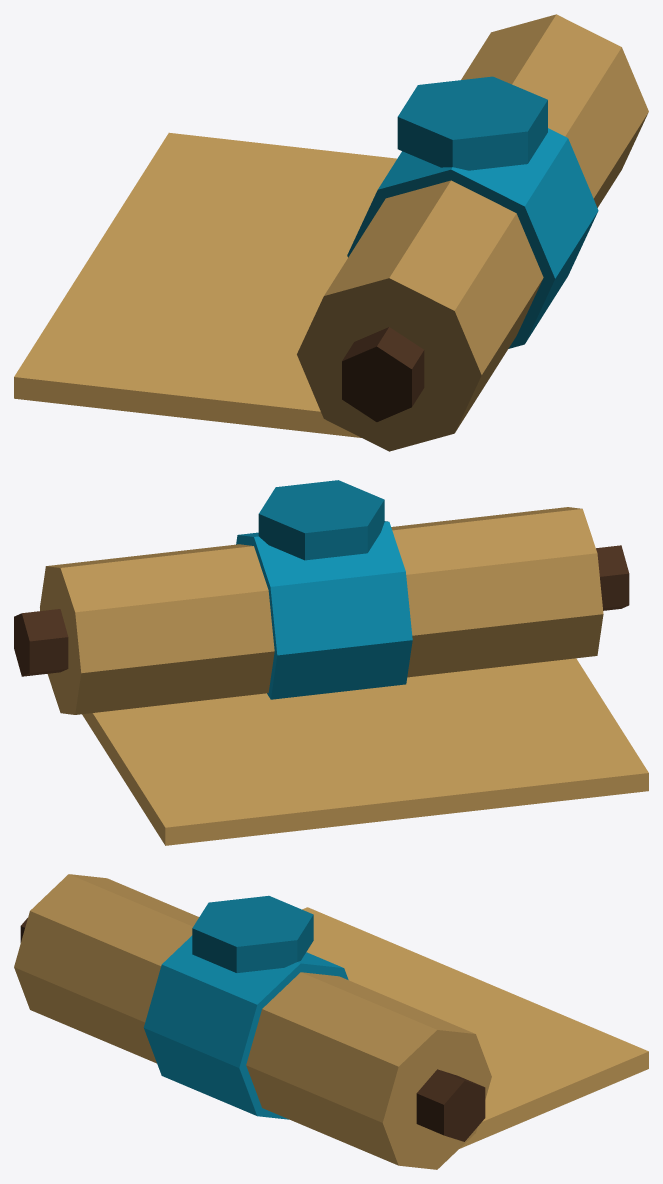
File: magic_missile_scroll.glb
The picture shows the model from 3 angles, top to bottom: view 1: azimuth 30°, elevation 25°; view 2: azimuth 150°, elevation 25°; view 3: azimuth 270°, elevation 25°; orthographic projection. The views are drawn at different scales.
Parts seen in each view (by area): view 1: magic_missile_scroll; view 2: magic_missile_scroll; view 3: magic_missile_scroll.
Part boxes in pixels (x1,y1,x2,y2): magic_missile_scroll: [14, 14, 648, 451]; magic_missile_scroll: [14, 480, 648, 845]; magic_missile_scroll: [14, 874, 648, 1169].
Size of the model in its own units: 0.822 by 0.2563 by 0.822.
